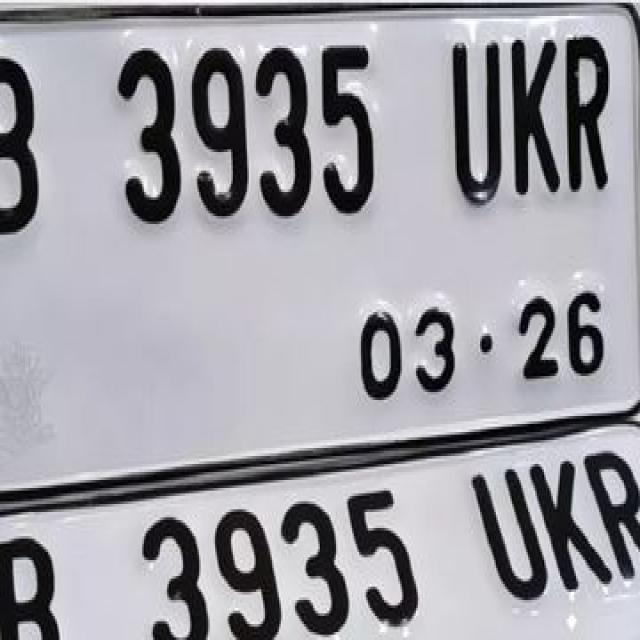license-plat: (0, 0, 640, 423)
